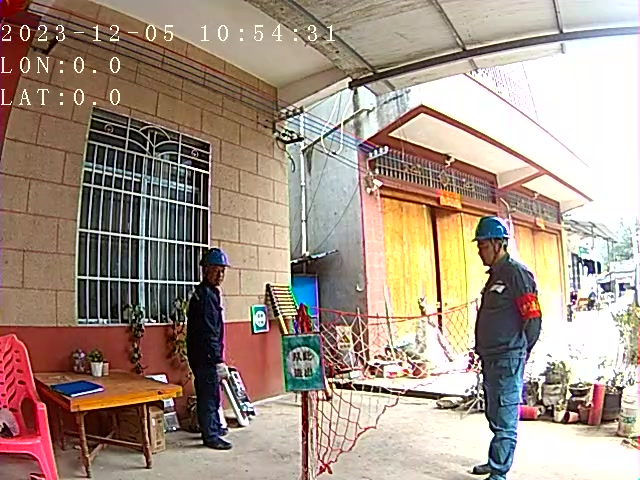badge: (515, 292, 541, 322)
downsuit: (479, 355, 528, 475), (190, 372, 223, 438)
halt: (473, 217, 512, 264), (200, 248, 232, 284)
inear: (489, 239, 504, 256)
intosign: (281, 339, 327, 388)
person: (464, 216, 545, 480), (175, 246, 241, 452)
upsuit: (474, 256, 543, 351), (186, 290, 233, 367)
wglove: (216, 360, 231, 383)
worksign: (250, 304, 269, 333)
